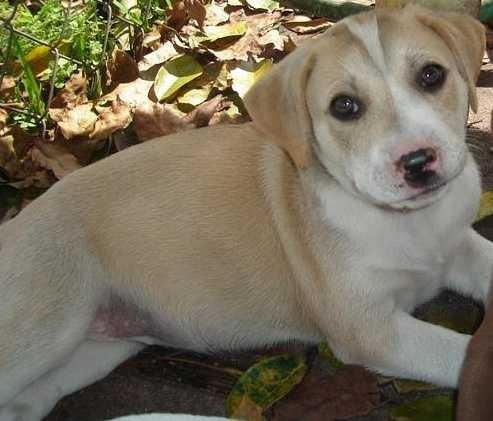Dog: (49, 5, 492, 391)
